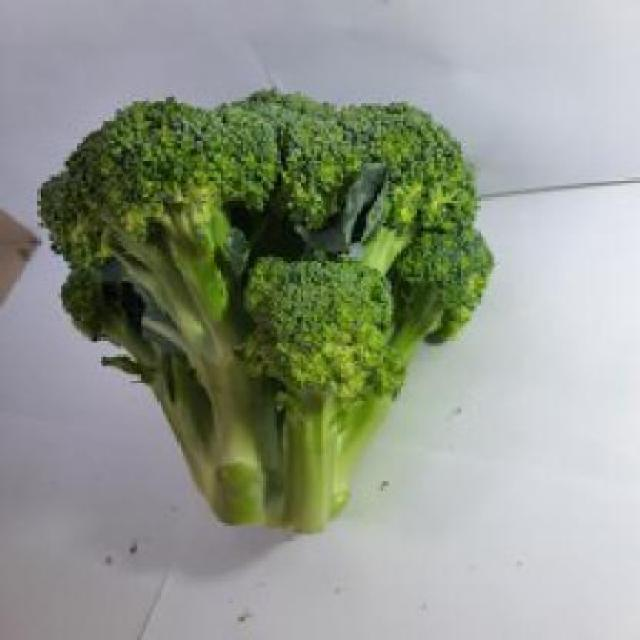broccoli: (51, 97, 468, 526)
